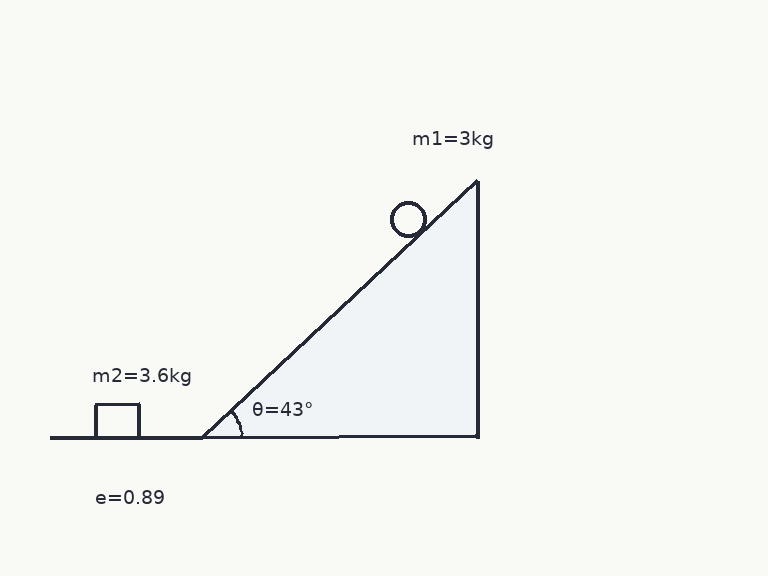ball: (389, 199, 428, 239)
block: (93, 403, 141, 439)
ramp: (199, 179, 478, 439)
